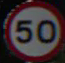Speed limit: (3, 2, 60, 53)
